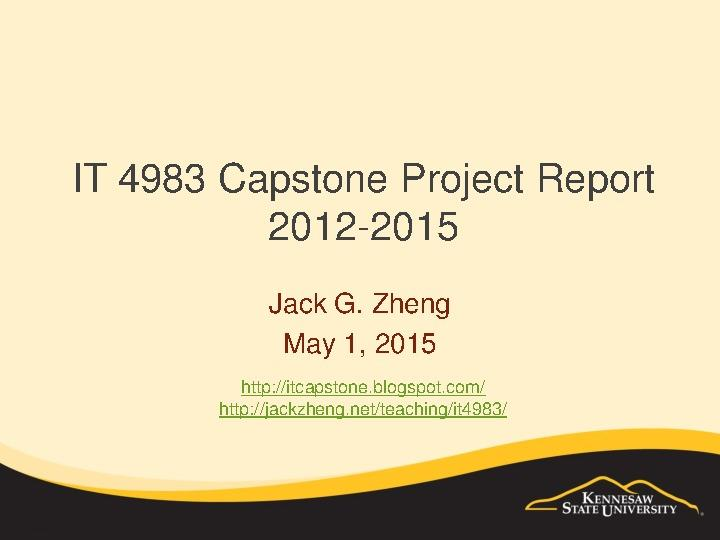paragraph: (57, 144, 690, 255)
subtitle: (195, 275, 575, 435)
